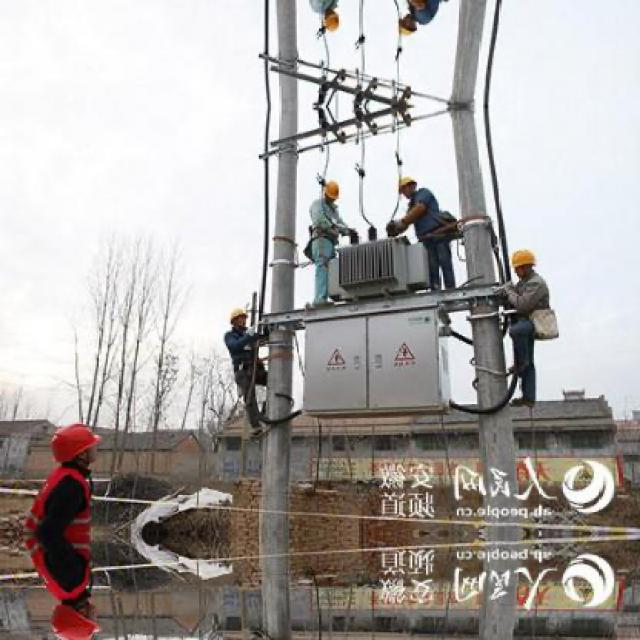helmet: (46, 418, 106, 470), (46, 597, 108, 638), (512, 248, 540, 279), (229, 304, 251, 332), (397, 174, 418, 199), (397, 14, 418, 38), (323, 12, 340, 36), (323, 179, 340, 202)
